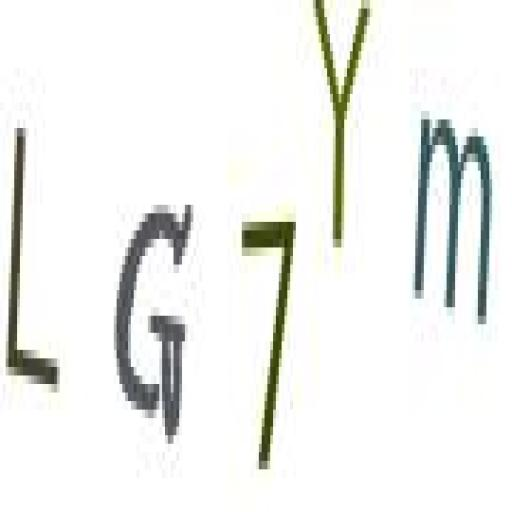7: (238, 200, 302, 484)
G: (108, 174, 198, 468)
L: (0, 103, 67, 442)
Y: (314, 0, 378, 259)
m: (410, 98, 498, 356)
